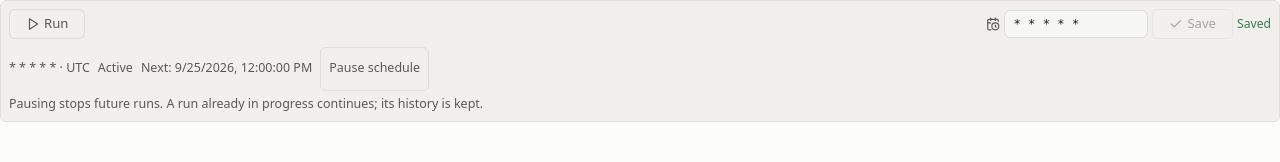
Test: workflow schedule management › shows update failure without optimistically claiming the schedule is paused
The image size is (1280, 162).
Click the button "Pause schedule".
click(375, 69)  # box [320,47,429,91]
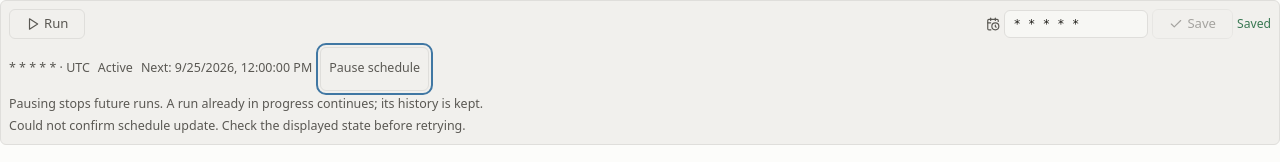
Expected: the text "Active" is shown, [98,59,133,78]
Expected: the message shows "Could not confirm schedule update", [9,117,466,134]
